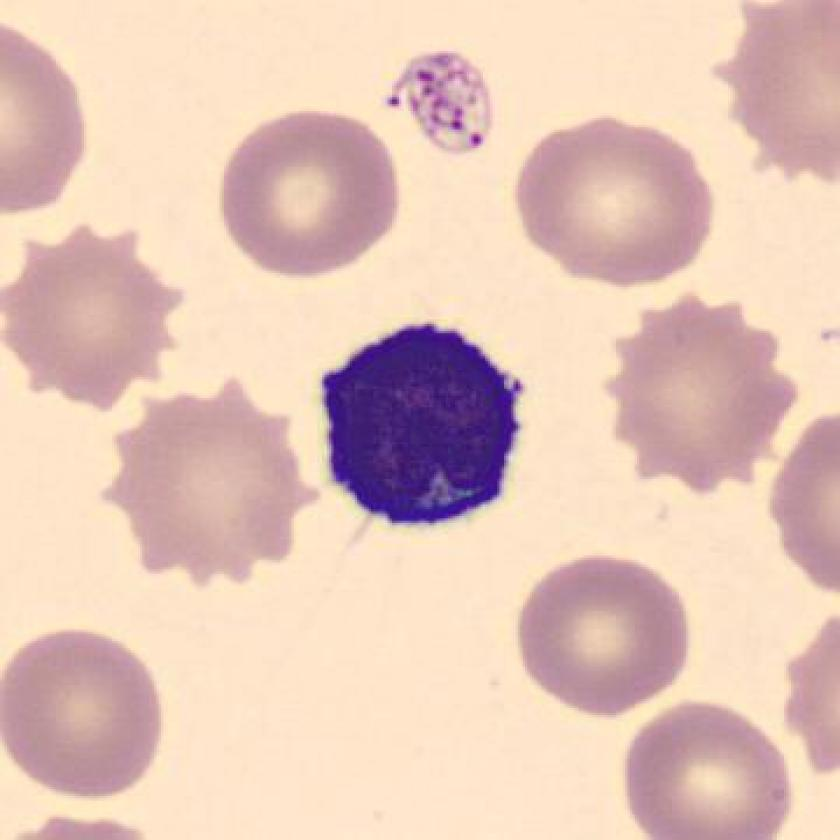lymphocyte: (309, 307, 538, 550)
